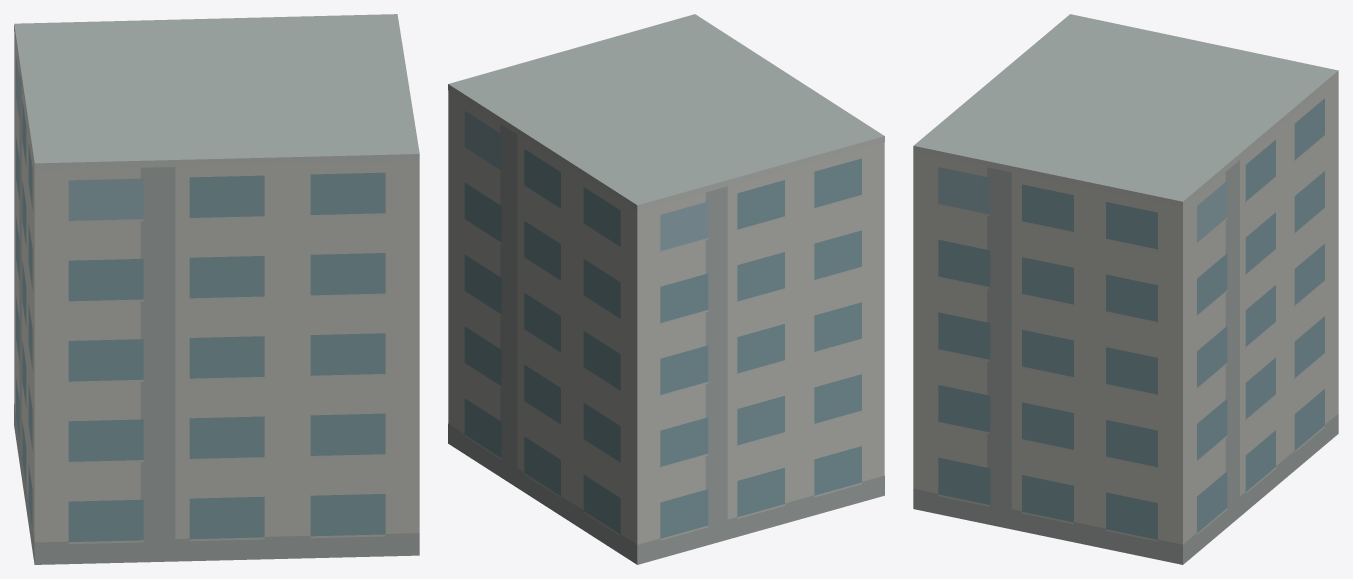
Rendered from survey-upis-32890059.glb.
3 views of the same model, side by side, from view 1: azimuth 30°, elevation 25°; view 2: azimuth 150°, elevation 25°; view 3: azimuth 270°, elevation 25° (orthographic). The views are drawn at different scales.
Visible parts, largest first — view 1: survey-upis-32890059.tmp; view 2: survey-upis-32890059.tmp; view 3: survey-upis-32890059.tmp.
Boxes of the visible parts, x1=… form: survey-upis-32890059.tmp: x1=14, y1=14, x2=419, y2=564; survey-upis-32890059.tmp: x1=448, y1=14, x2=884, y2=564; survey-upis-32890059.tmp: x1=913, y1=14, x2=1338, y2=564.
Size of the model in its own units: 15.52 by 14 by 14.86.
